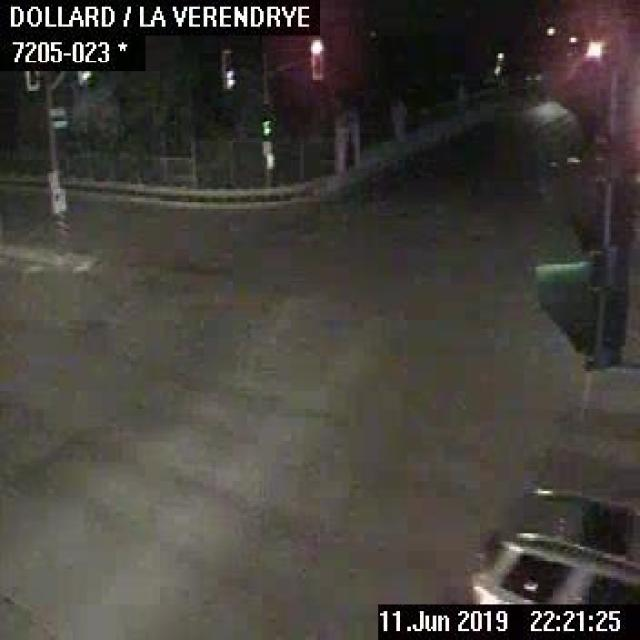vehicle: (464, 484, 638, 602)
